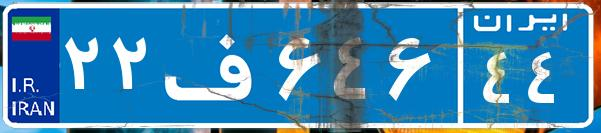2: (57, 26, 110, 107), (110, 28, 158, 105)
4: (330, 28, 385, 110), (475, 38, 525, 113), (525, 38, 570, 115)
6: (385, 28, 445, 110), (273, 28, 330, 110)
ف: (158, 15, 273, 115)
